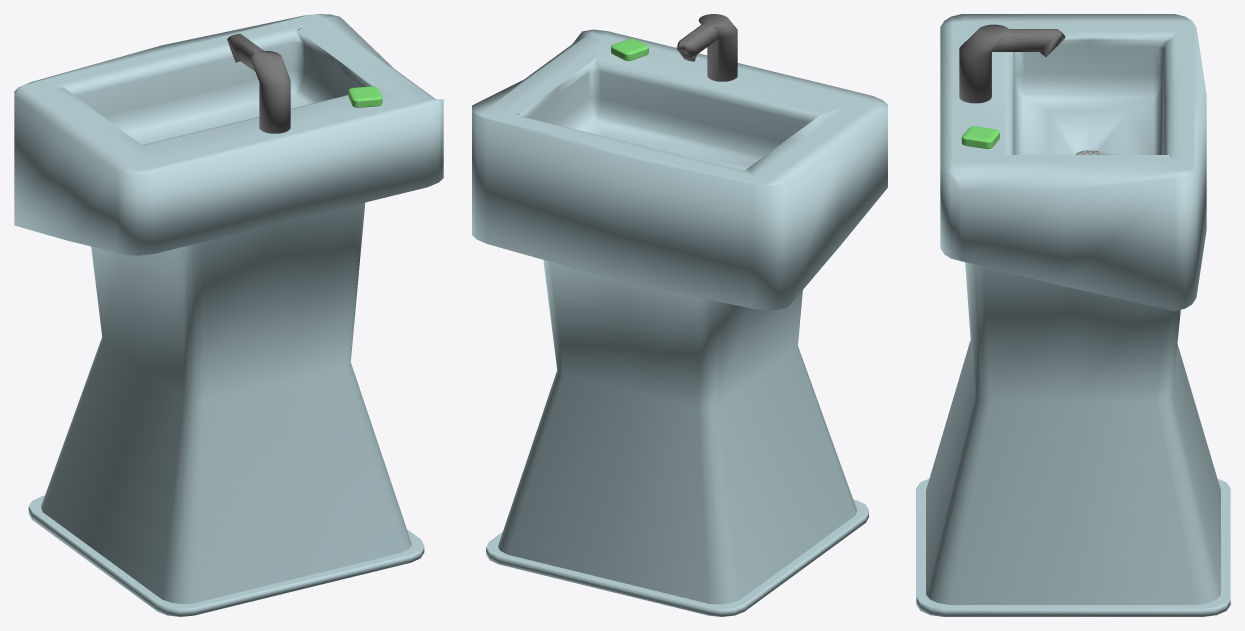
The model's file is lavabo.fbx.
The picture shows the model from 3 angles, left to right: view 1: azimuth 30°, elevation 25°; view 2: azimuth 150°, elevation 25°; view 3: azimuth 270°, elevation 25°; orthographic projection. The views are drawn at different scales.
Parts seen in each view (by area): view 1: Cube; view 2: Cube; view 3: Cube.
Boxes of the visible parts, x1=… form: Cube: x1=14, y1=14, x2=443, y2=616; Cube: x1=472, y1=14, x2=887, y2=616; Cube: x1=916, y1=14, x2=1230, y2=616.
Bounding box in the file's own units: 248 × 366 × 201.
